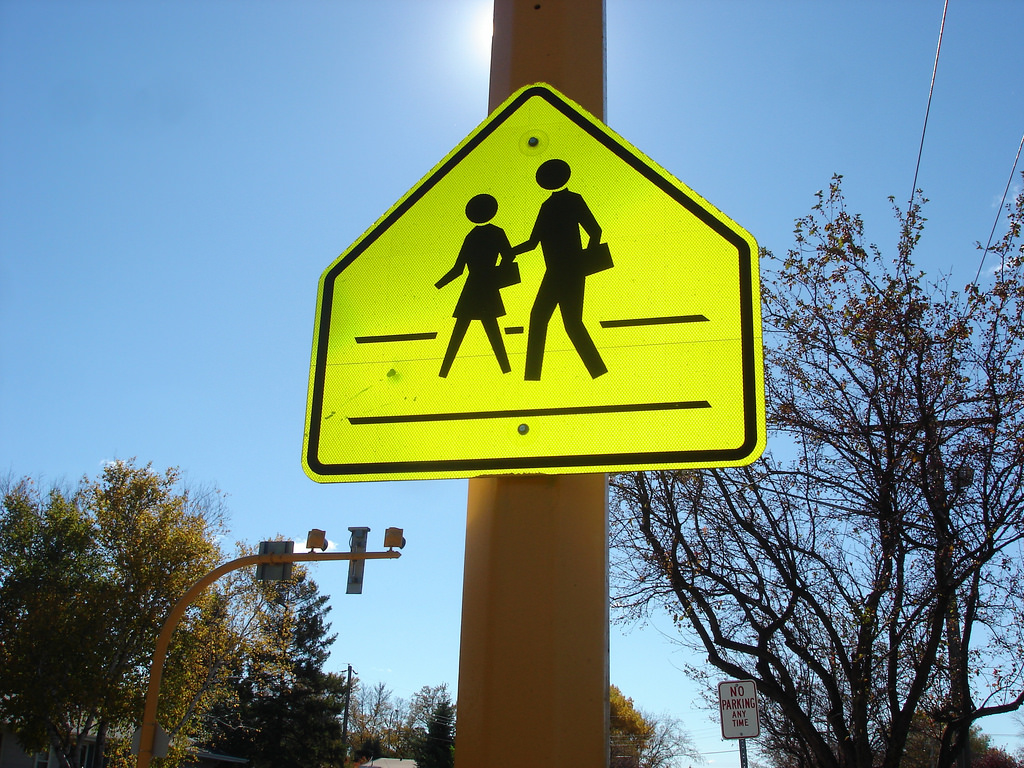slow: (309, 82, 769, 478)
